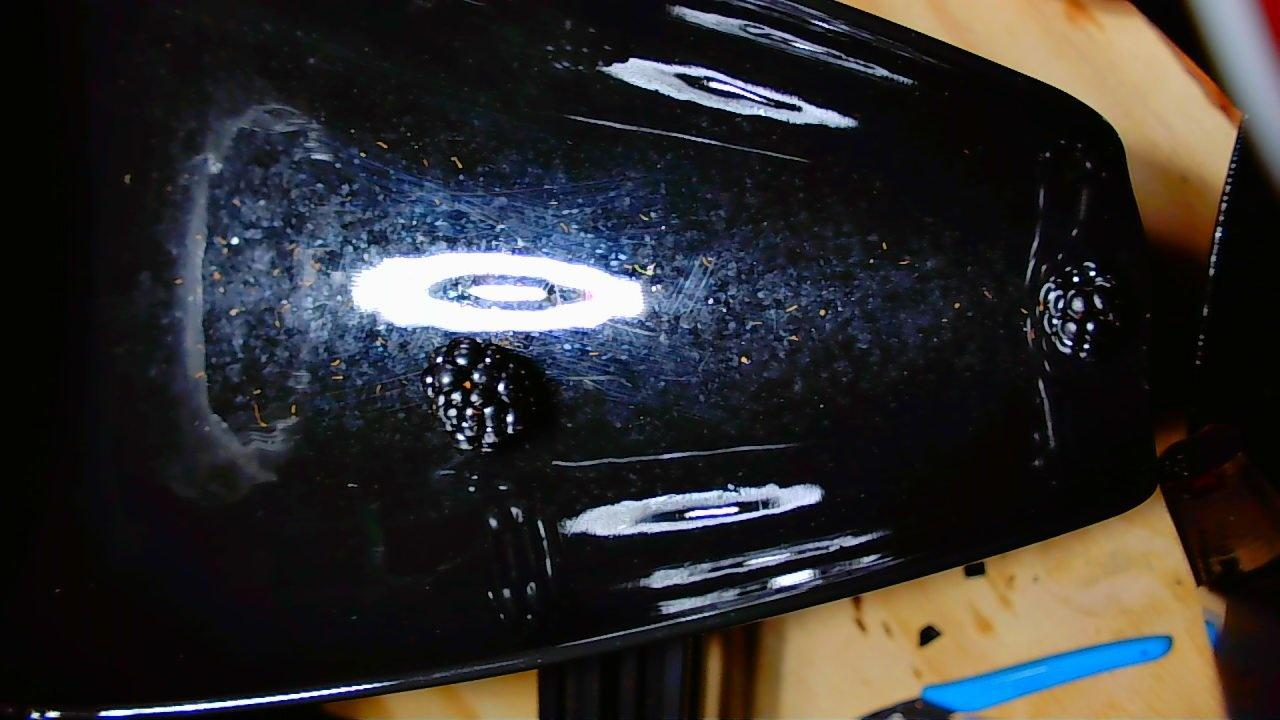berry: (421, 337, 542, 451), (1037, 261, 1120, 359)
